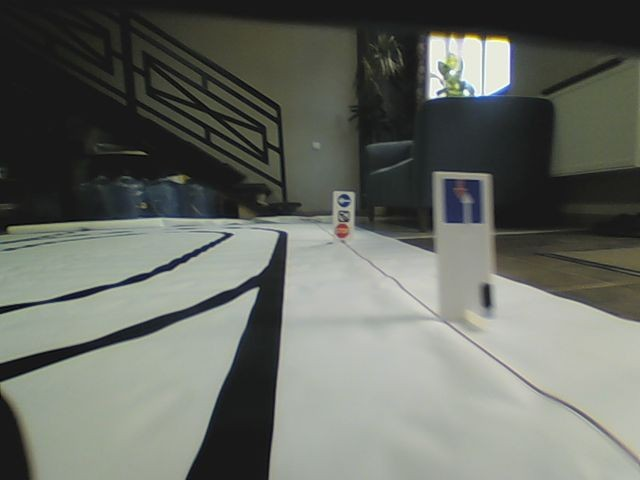priority_movement: (440, 176, 486, 227)
